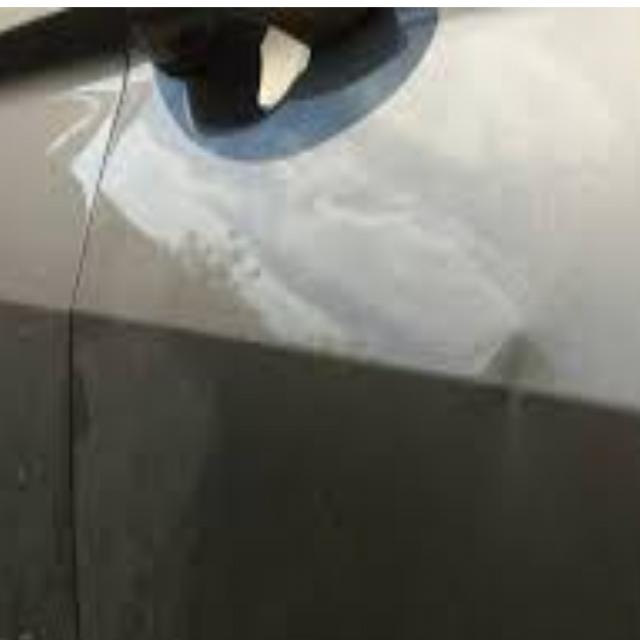dents: (461, 323, 575, 438)
